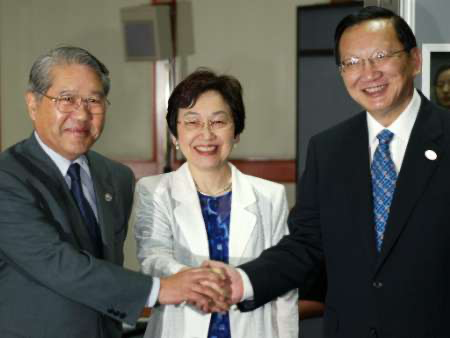Face: (42, 78, 113, 161), (337, 42, 413, 116), (178, 105, 236, 173)
